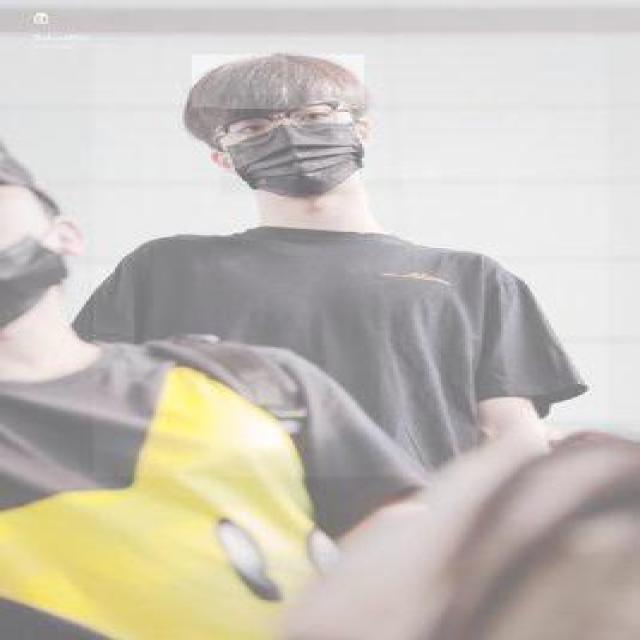face_mask: (220, 94, 364, 197)
glasses: (217, 97, 346, 146)
head_nohelmet: (192, 54, 367, 109)
person: (93, 45, 609, 478)
